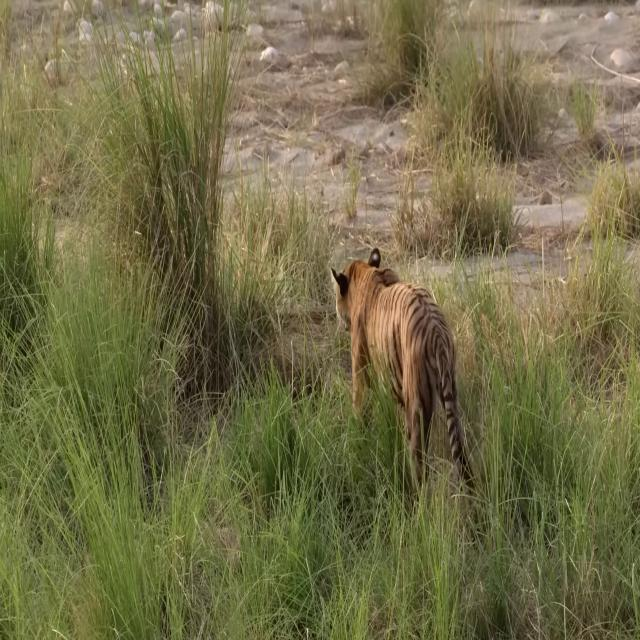tiger: (330, 247, 467, 493)
